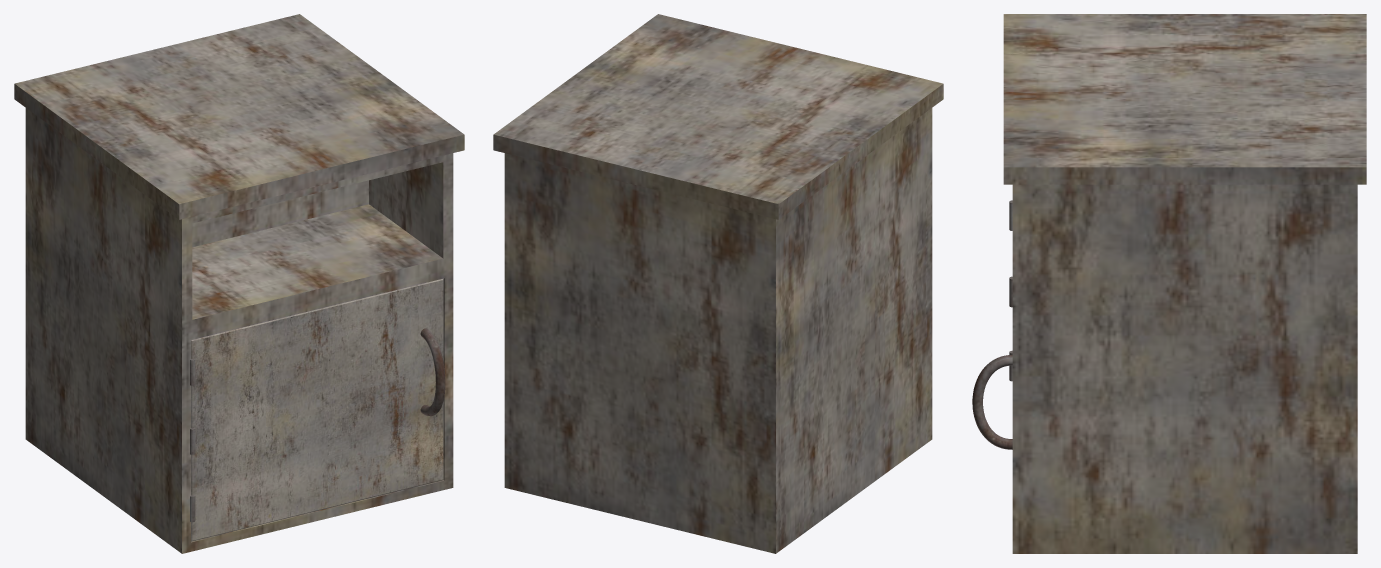
Rendered from Bedside_table.fbx.
The picture shows the model from 3 angles, left to right: view 1: azimuth 30°, elevation 25°; view 2: azimuth 150°, elevation 25°; view 3: azimuth 270°, elevation 25°; orthographic projection. The views are drawn at different scales.
Parts seen in each view (by area): view 1: Bedside_table_door_Bedsided_table_door_0; view 2: Bedside_table_door_Bedsided_table_door_0; view 3: Bedside_table_door_Bedsided_table_door_0.
Boxes of the visible parts, left/top/right/bottom form: Bedside_table_door_Bedsided_table_door_0: left=14, top=14, right=464, bottom=553; Bedside_table_door_Bedsided_table_door_0: left=493, top=14, right=943, bottom=553; Bedside_table_door_Bedsided_table_door_0: left=972, top=14, right=1366, bottom=553.
Bounding box in the file's own units: 76.96 × 91.33 × 83.59.
Materials: 2 (2 with a texture image).
